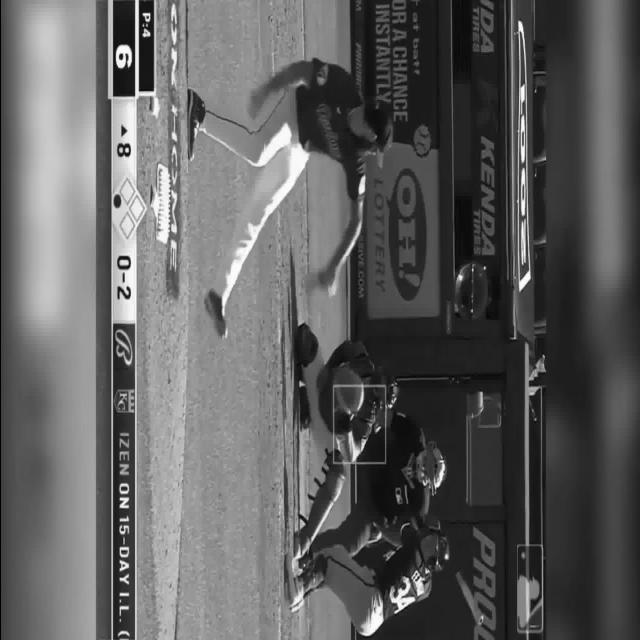baseball_glove: (332, 367, 364, 418), (306, 262, 339, 296)
bat: (455, 571, 482, 627)
shoe: (186, 89, 205, 162), (284, 553, 304, 611), (204, 289, 226, 340), (292, 527, 310, 560)
